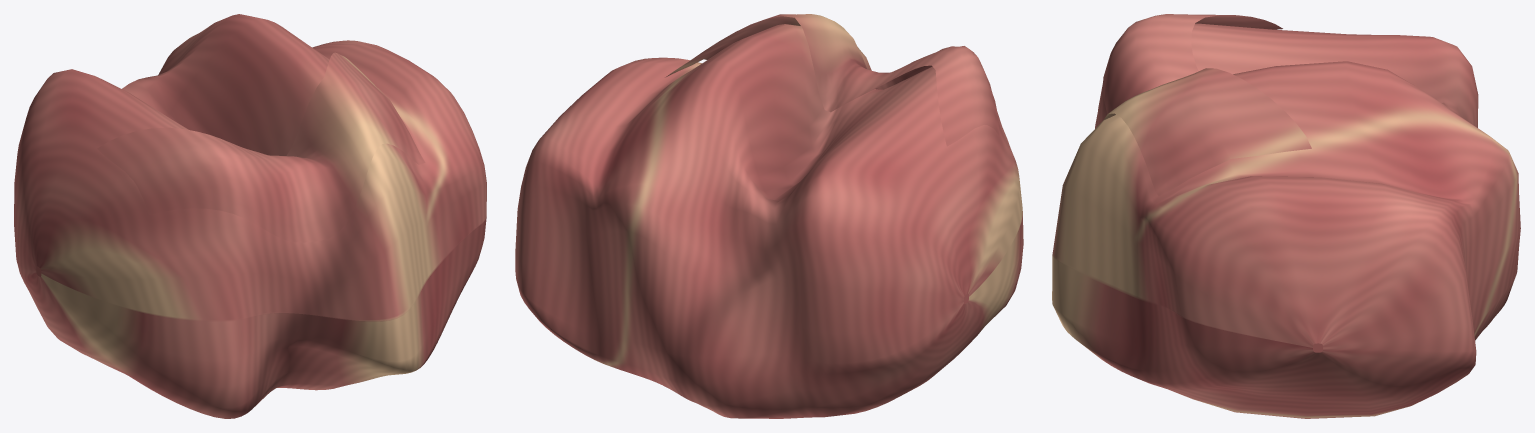
File: chicken.glb
3 renders of one model, left to right at view 1: azimuth 30°, elevation 25°; view 2: azimuth 150°, elevation 25°; view 3: azimuth 270°, elevation 25°, orthographic.
Parts seen in each view (by area): view 1: chicken; view 2: chicken; view 3: chicken.
Boxes of the visible parts, left/top/right/bottom form: chicken: left=14, top=14, right=486, bottom=418; chicken: left=515, top=14, right=1023, bottom=418; chicken: left=1052, top=14, right=1520, bottom=418.
Bounding box in the file's own units: 0.97 × 0.7035 × 0.9215.
1 material, 1 textured.
